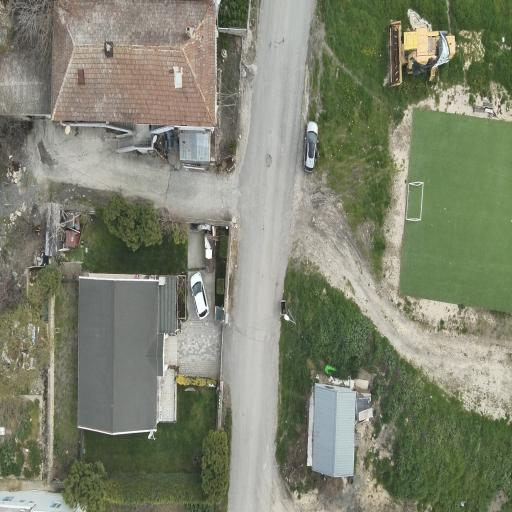car: (190, 272, 208, 319), (303, 121, 317, 172)
harvester: (387, 21, 454, 86)
